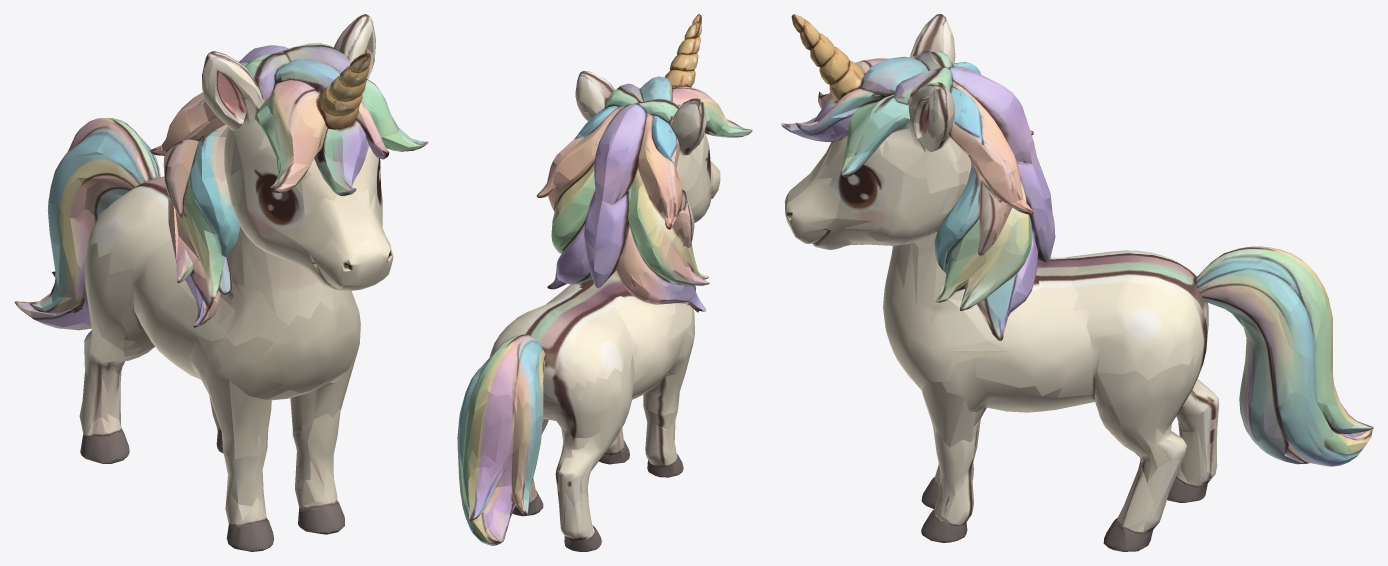
File: pet_uni.glb
3 renders of one model, left to right at view 1: azimuth 30°, elevation 25°; view 2: azimuth 150°, elevation 25°; view 3: azimuth 270°, elevation 25°, orthographic. The views are drawn at different scales.
Size of the model in its own units: 0.697 by 1.79 by 1.9.
1 material, 1 textured.
